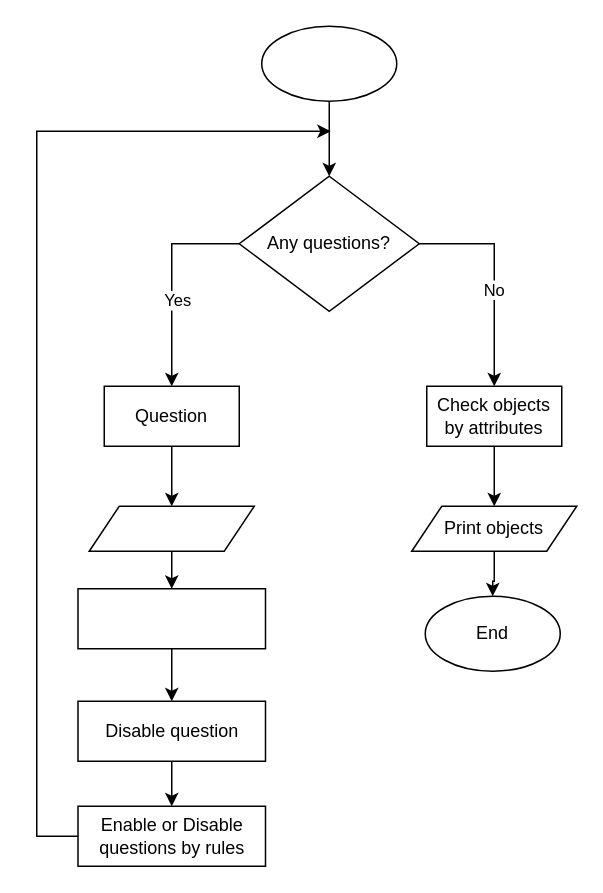
Some shapes in this 603 by 893 pixel diagram are drawn without their labels. The shapes that lost their labels are listed below. From the top down, each one's centre as x and y in pixels, then its label:
At [328,63]: "Start".
At [171,528]: "Enter answer".
At [171,618]: "Set attributes or parameters by answer".
